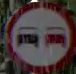No overtake: (4, 0, 74, 73)
